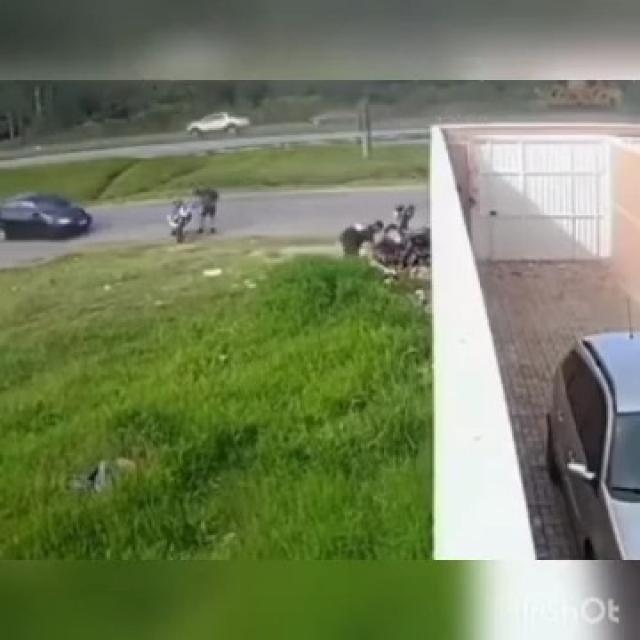accident: (373, 201, 439, 274)
